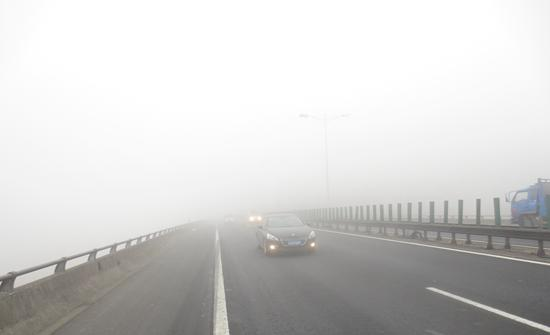bus: (503, 176, 550, 229)
car: (255, 213, 318, 256)
